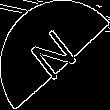N_SE: (26, 23, 84, 87)
